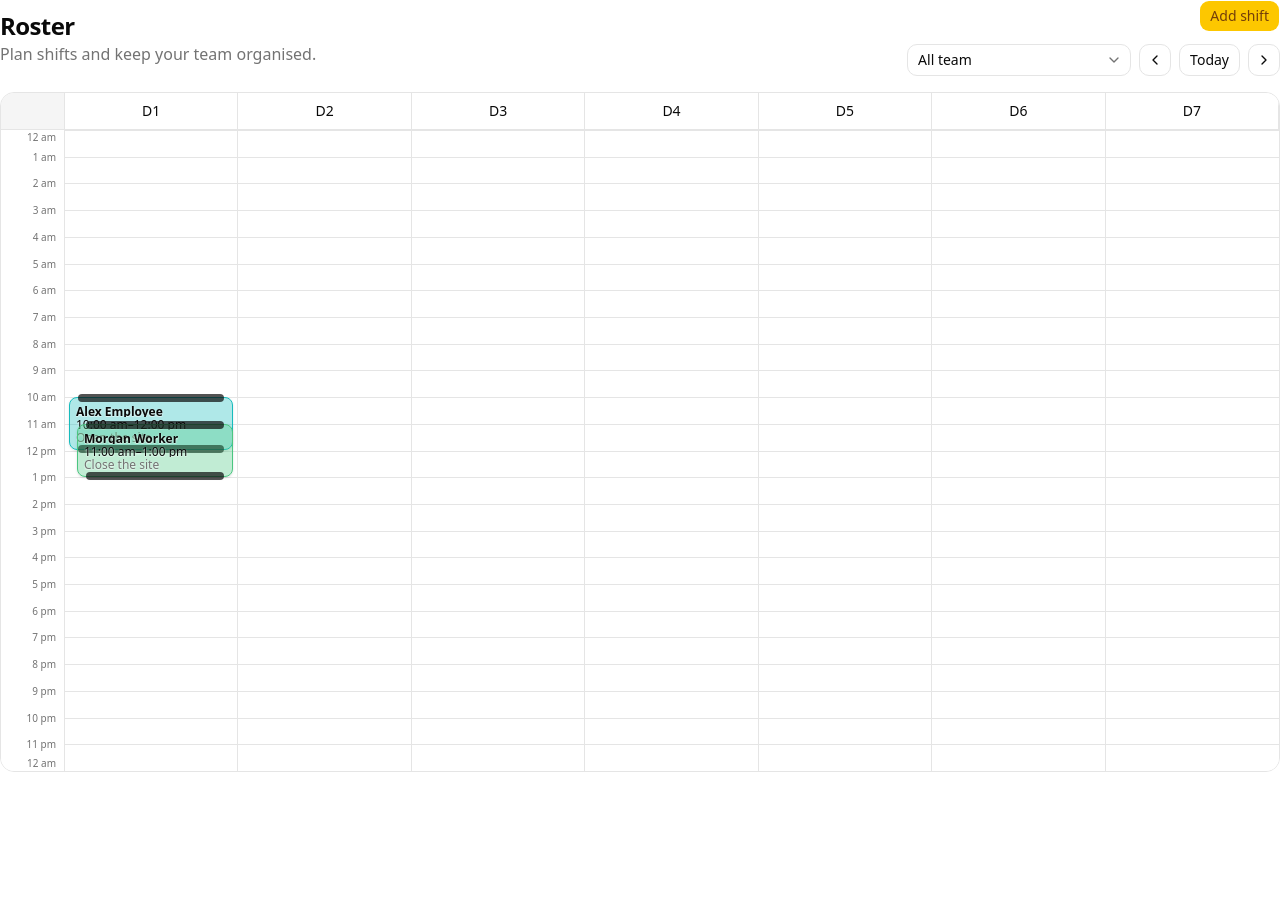
RosterCalendar › opens an exact form from the keyboard-accessible Add shift button
The width and height of the screenshot is (1280, 900).
Step 1. Click the button "Add shift" → coordinates (1240, 16), box [1199,0,1279,32]
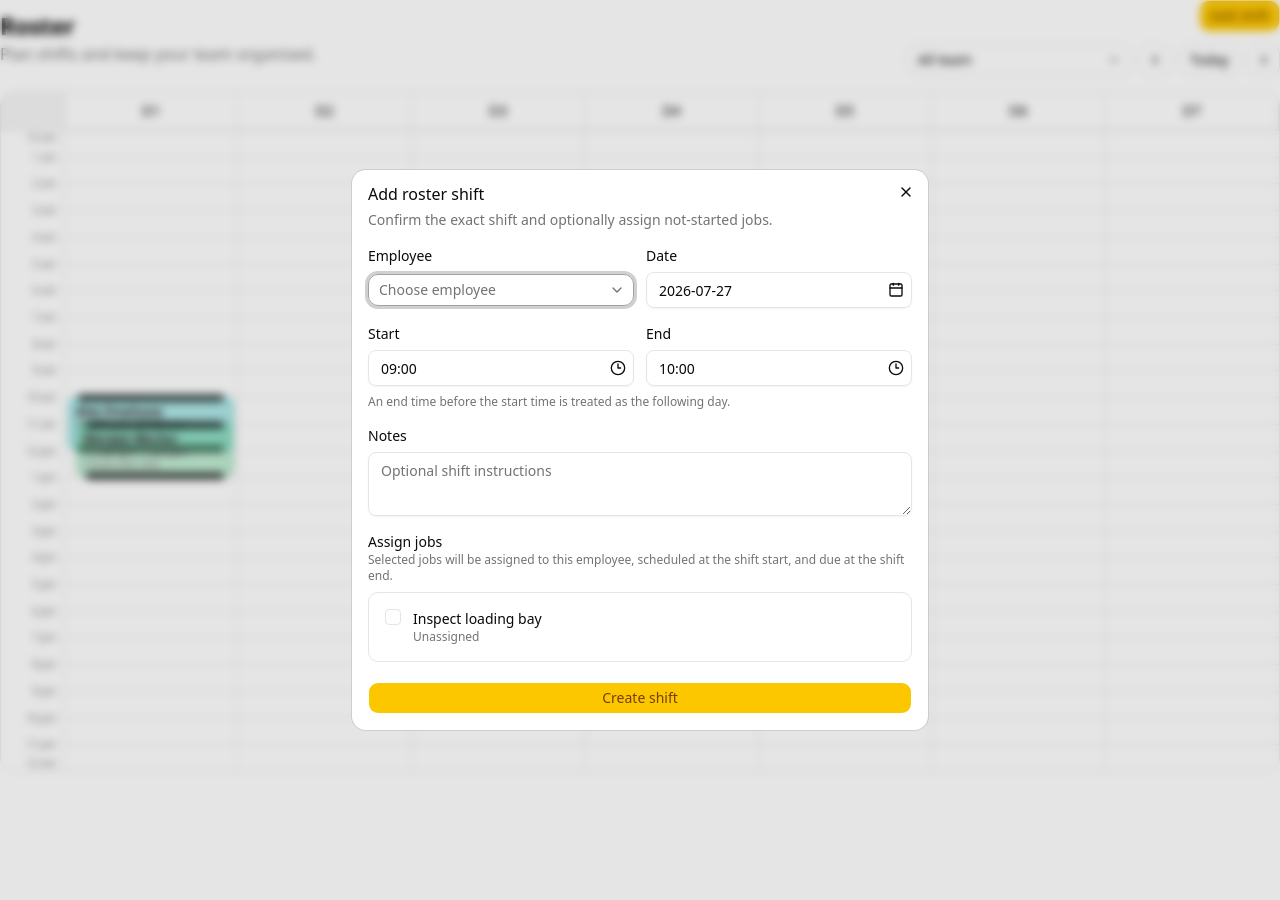
Check: the field labelled "Date" holds "2026-07-27", box [646,272,912,308]
Check: the field labelled "Start" holds "09:00", box [368,350,634,386]
Check: the field labelled "End" holds "10:00", box [646,350,912,386]
